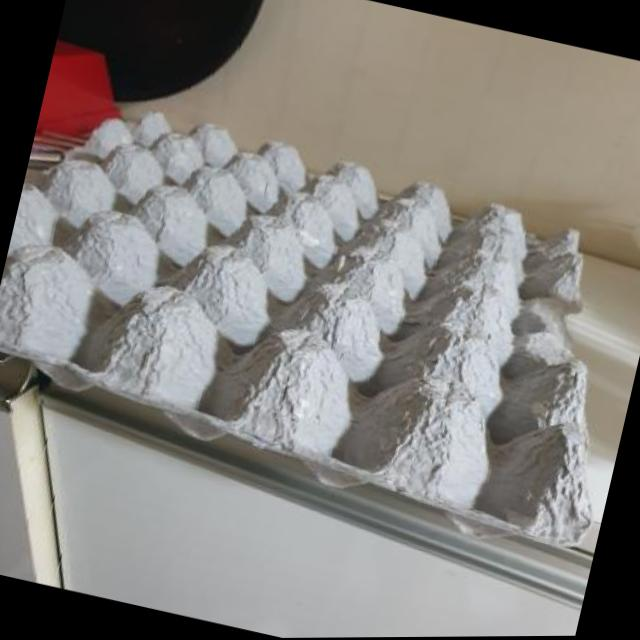box: (0, 44, 640, 586)
